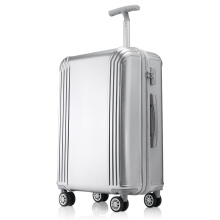suitcase: (56, 3, 164, 215)
